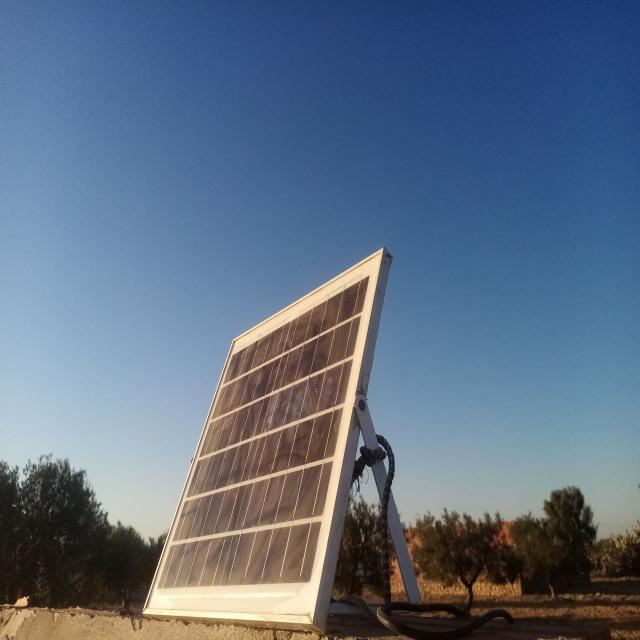faulty: (143, 250, 385, 628)
